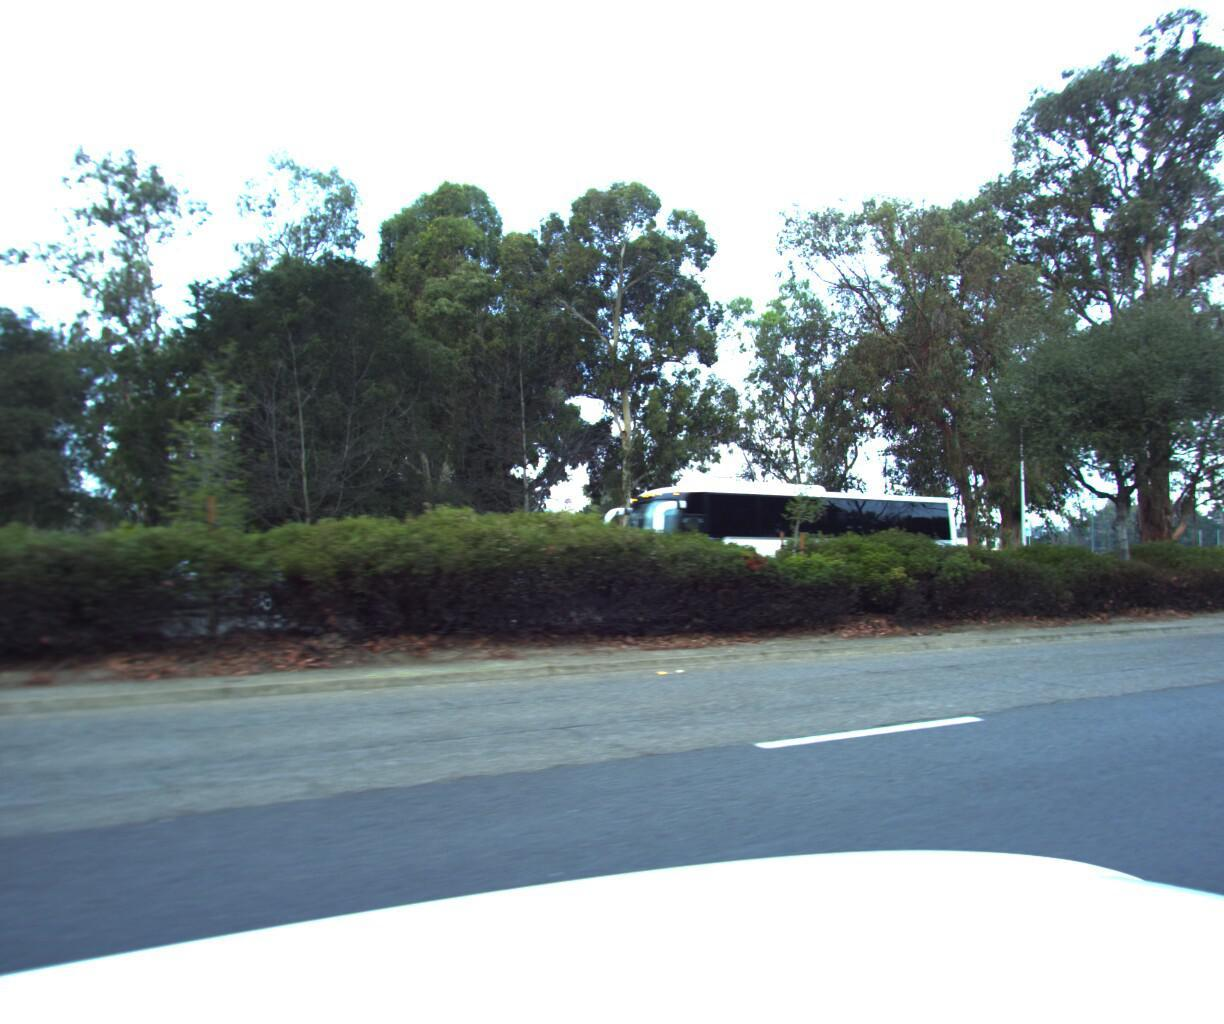truck: (594, 465, 983, 621)
